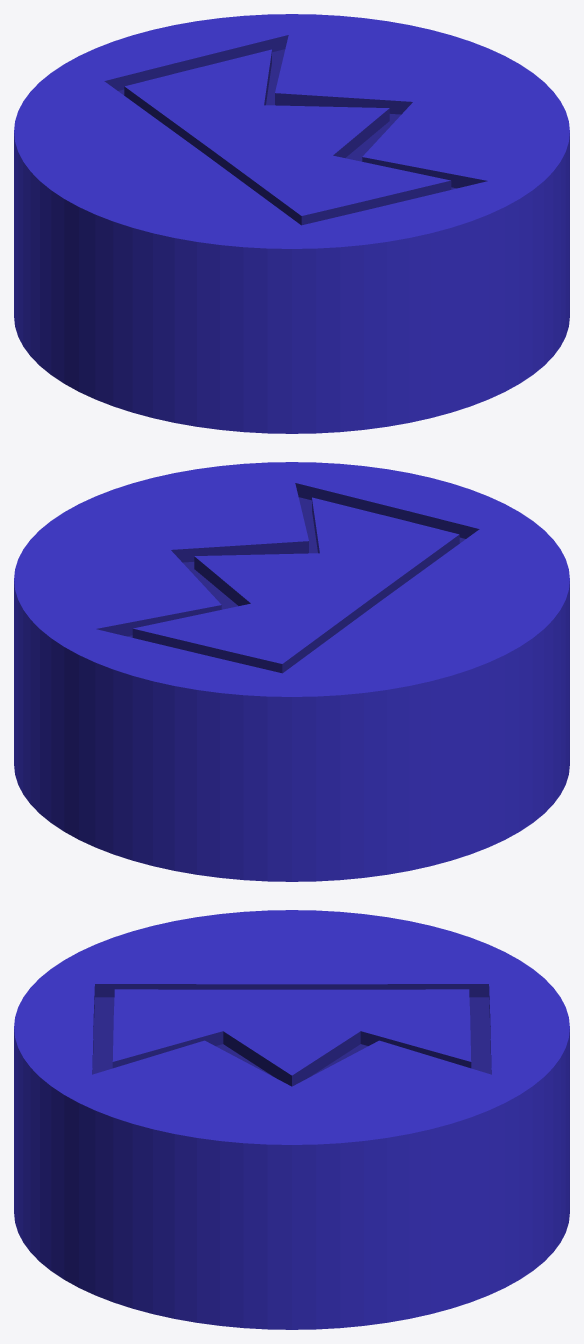
File: Blue Queen4.fbx
3 views of the same model, one above another, from view 1: azimuth 30°, elevation 25°; view 2: azimuth 150°, elevation 25°; view 3: azimuth 270°, elevation 25° (orthographic).
Parts seen in each view (by area): view 1: Blue Queen; view 2: Blue Queen; view 3: Blue Queen.
Part boxes in pixels (left/top/right/bottom): Blue Queen: left=14, top=14, right=569, bottom=433; Blue Queen: left=14, top=462, right=569, bottom=881; Blue Queen: left=14, top=910, right=569, bottom=1329.
Size of the model in its own units: 57.84 by 21.23 by 57.84.
